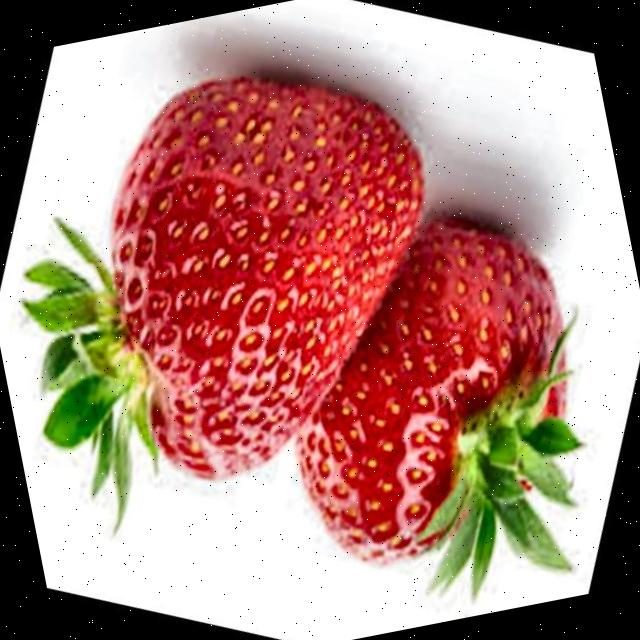strawberry: (23, 77, 423, 525), (298, 218, 581, 597)
